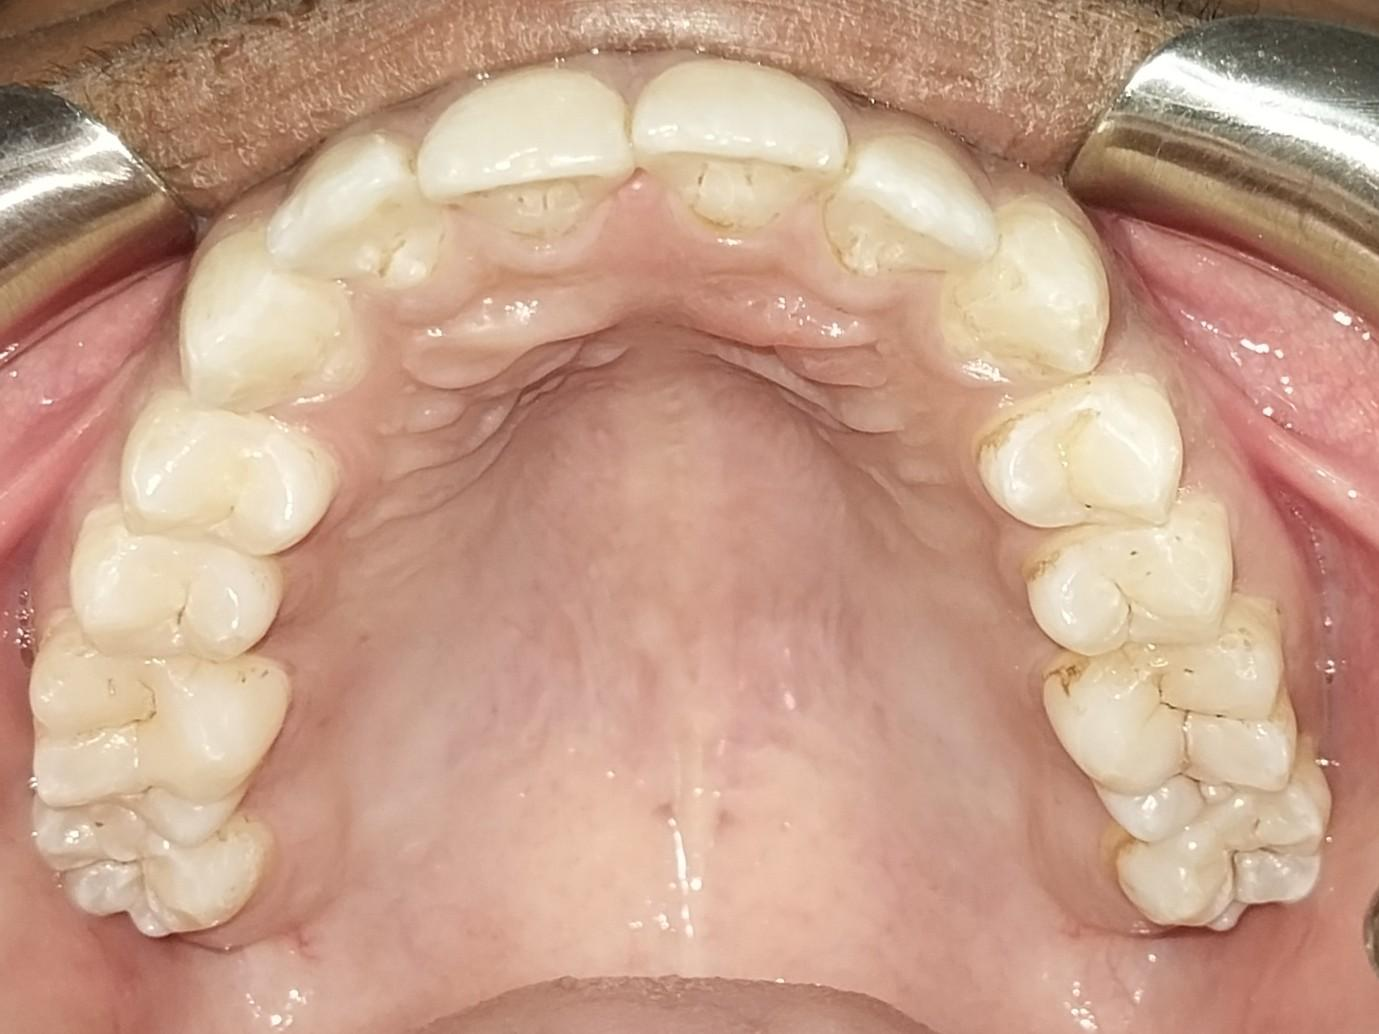D: (1038, 612, 1298, 846), (1115, 769, 1327, 931)
